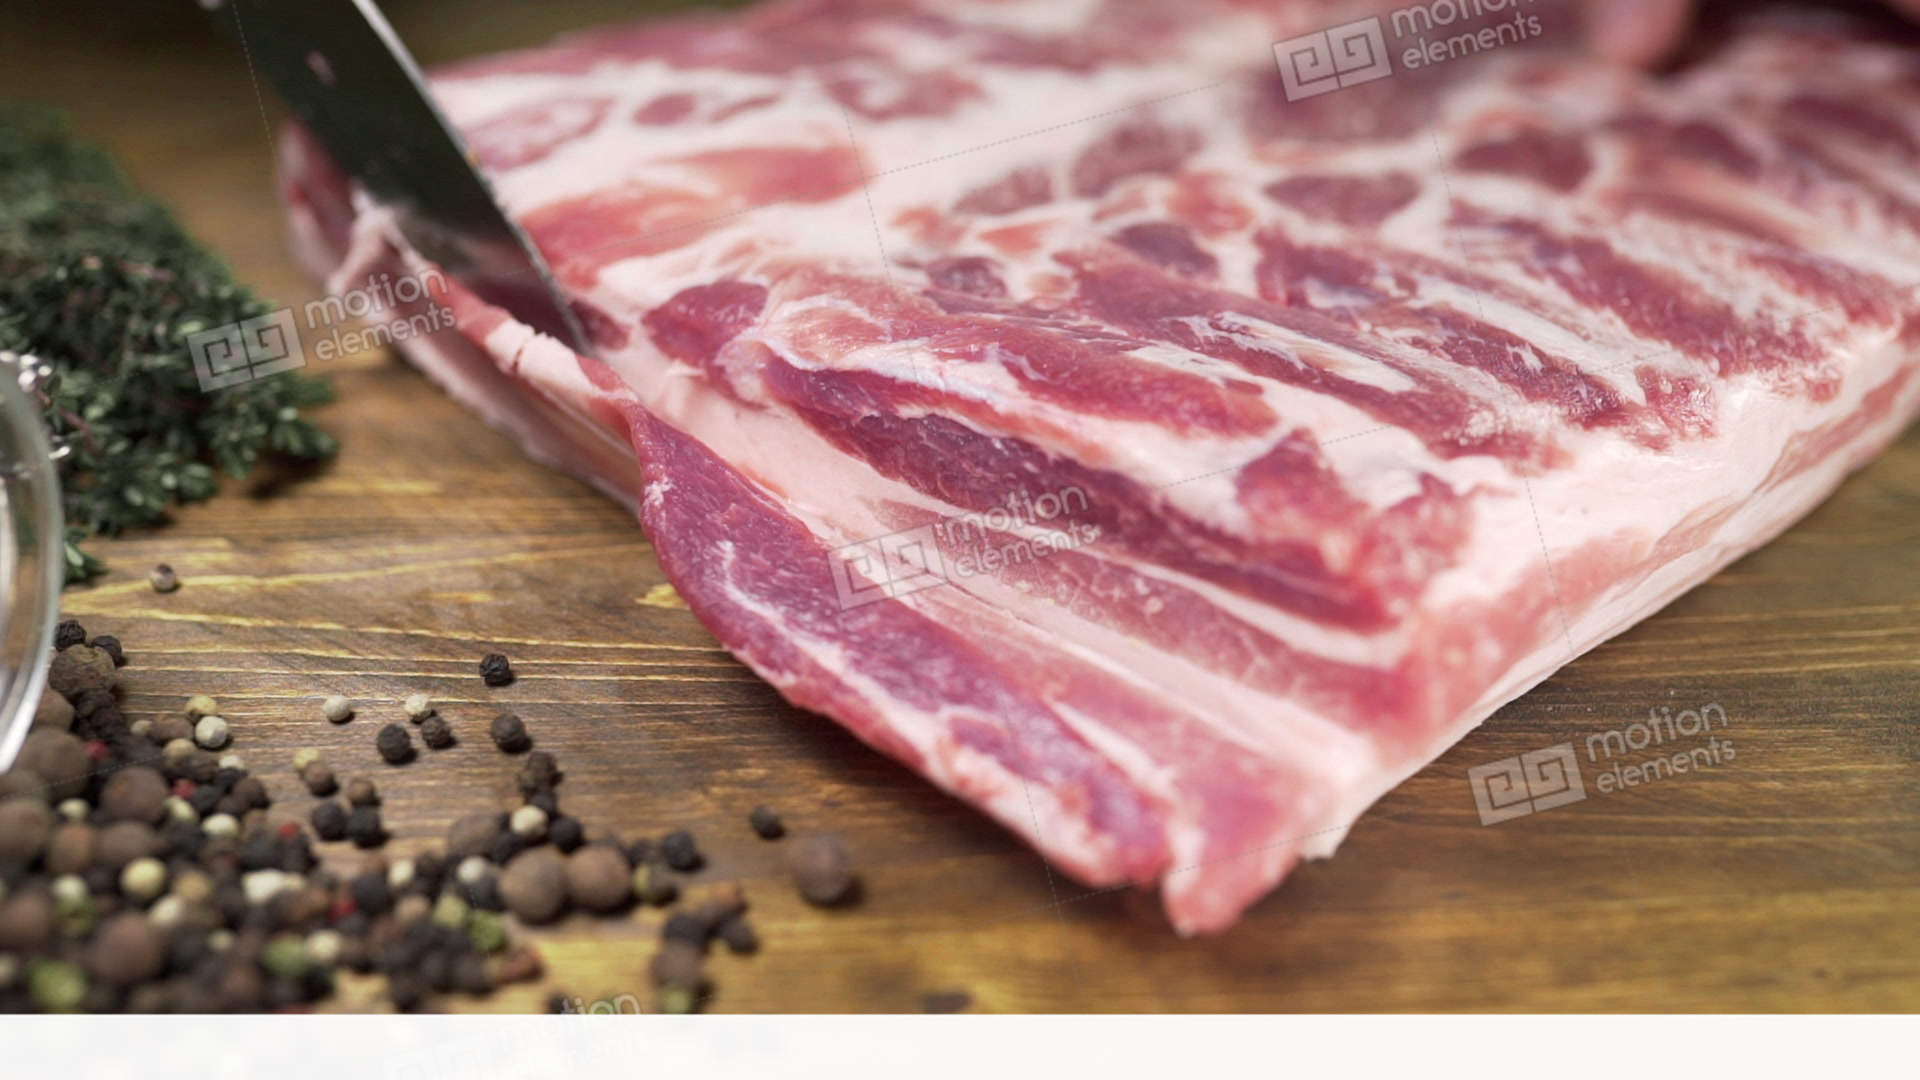bacon: (534, 1, 1714, 930)
